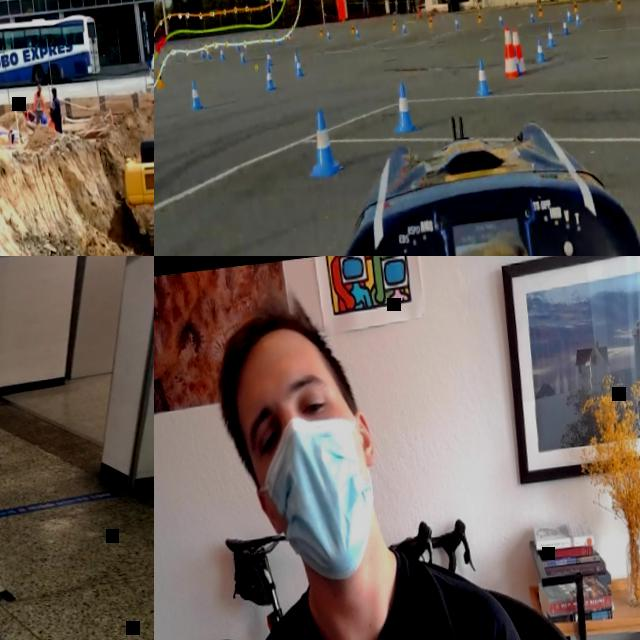helmet: (37, 82, 43, 88), (21, 103, 26, 109)
machinery: (104, 0, 154, 256)
mask: (251, 410, 385, 590)
no_helmet: (213, 304, 327, 407), (52, 85, 58, 92)
no_vest: (252, 558, 507, 640), (52, 97, 62, 121)
person: (165, 277, 580, 640), (46, 85, 64, 132), (30, 80, 48, 123), (22, 102, 36, 121), (47, 106, 56, 128)
safety_cone: (302, 104, 342, 176), (390, 78, 417, 134), (500, 26, 520, 79), (511, 26, 528, 77), (473, 57, 492, 98), (187, 77, 205, 111), (511, 44, 524, 76), (534, 36, 546, 64), (264, 64, 277, 88), (154, 66, 168, 88), (545, 23, 556, 48), (295, 56, 306, 78), (292, 47, 302, 68), (561, 14, 570, 36), (265, 46, 274, 66), (574, 10, 582, 26), (454, 16, 462, 30), (566, 7, 573, 22), (220, 46, 227, 58), (205, 46, 212, 58), (199, 46, 206, 58), (530, 10, 536, 23), (573, 0, 580, 11), (402, 21, 408, 33), (538, 4, 544, 16), (477, 10, 483, 22), (428, 14, 434, 26), (498, 13, 504, 24), (616, 0, 623, 9), (392, 20, 398, 30), (242, 48, 246, 62), (355, 26, 360, 36), (327, 28, 332, 38), (351, 22, 356, 32), (320, 26, 324, 38)
vehicle: (154, 82, 640, 256), (0, 6, 103, 94)
vest: (33, 90, 46, 112), (26, 106, 34, 120), (49, 116, 55, 126)
